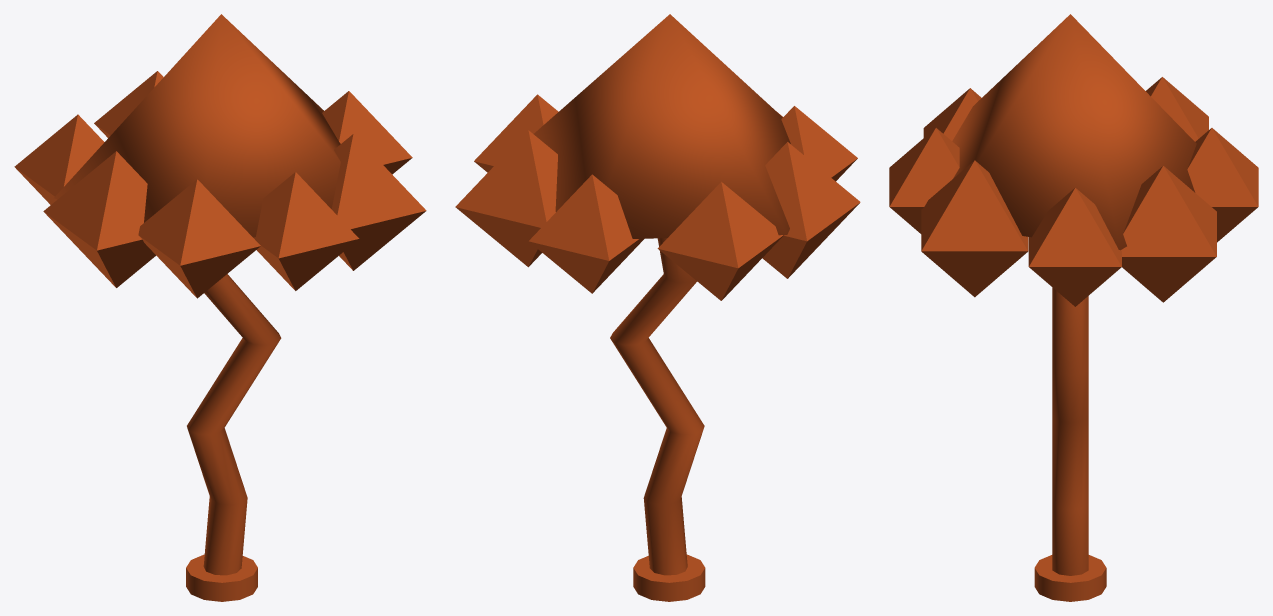
File: HahaTreeColor.FBX
3 views of the same model, side by side, from view 1: azimuth 30°, elevation 25°; view 2: azimuth 150°, elevation 25°; view 3: azimuth 270°, elevation 25° (orthographic).
Visible parts, largest first — view 1: HahaTree; view 2: HahaTree; view 3: HahaTree.
Part boxes in pixels (x1,y1,x2,y2): HahaTree: [14, 14, 426, 601]; HahaTree: [455, 14, 860, 601]; HahaTree: [889, 14, 1258, 601].
Size of the model in its own units: 61.59 by 103 by 60.05.
